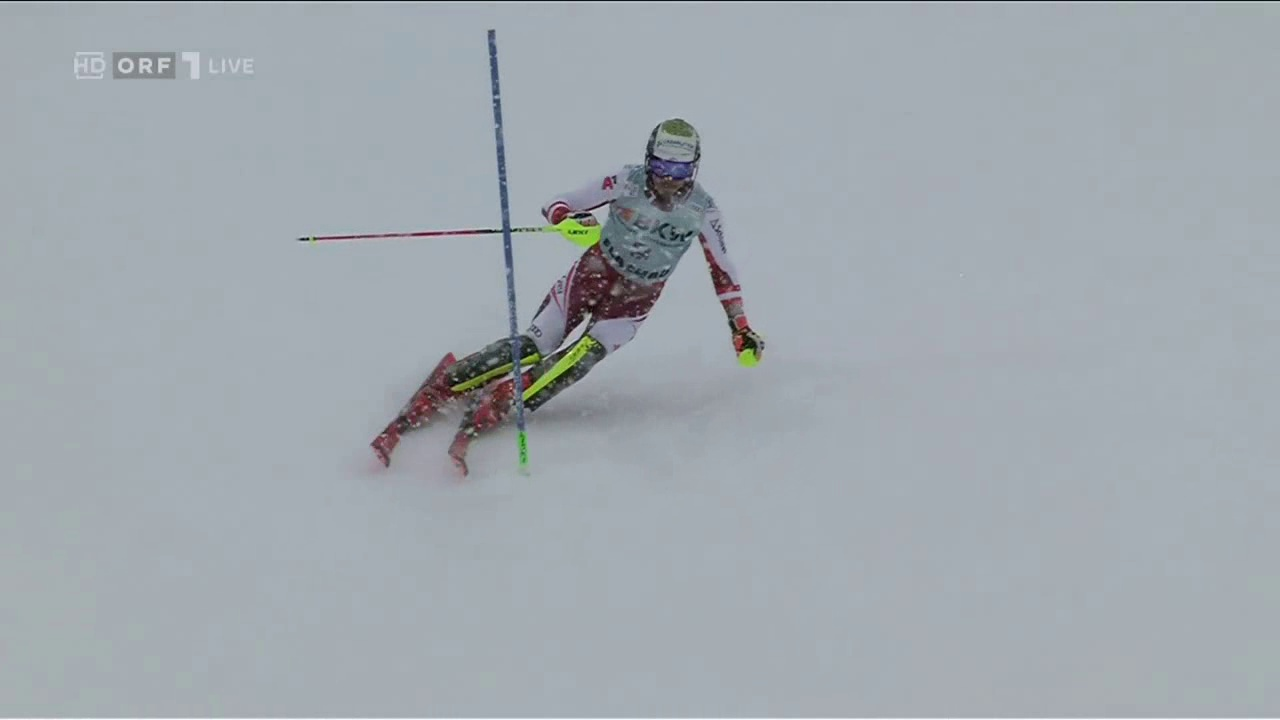a1: (606, 176, 626, 191)
